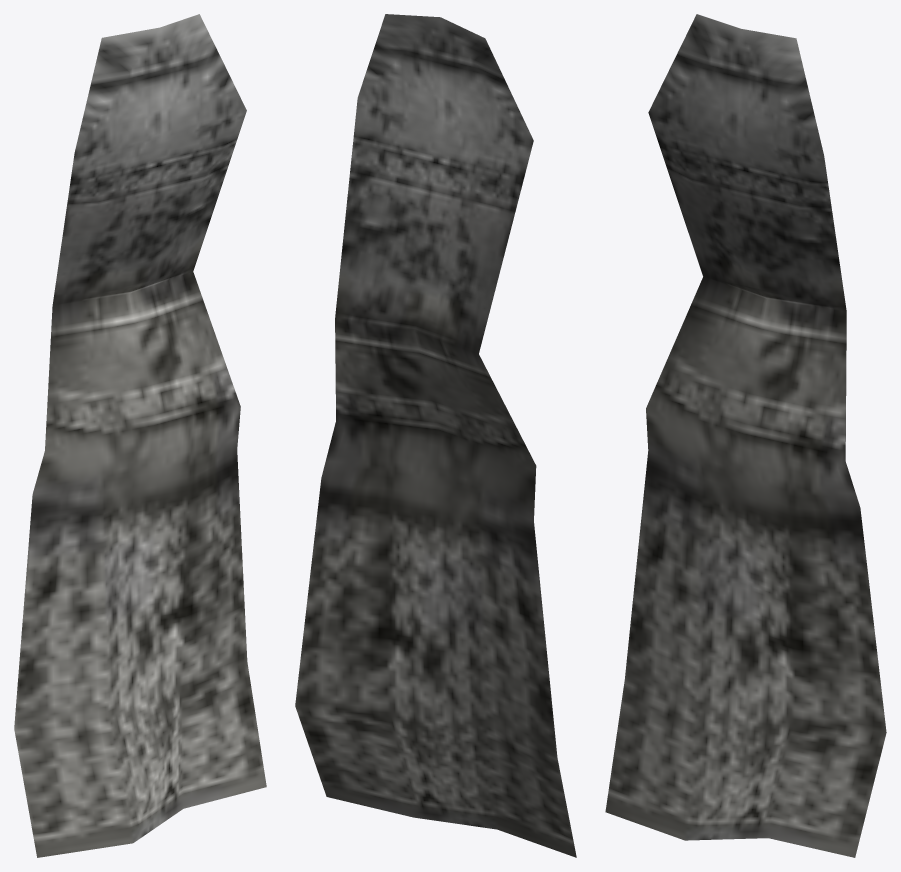
3 renders of one model, left to right at view 1: azimuth 30°, elevation 25°; view 2: azimuth 150°, elevation 25°; view 3: azimuth 330°, elevation 25°, orthographic. The views are drawn at different scales.
Visible parts, largest first — view 1: np1601; view 2: np1601; view 3: np1601.
Part boxes in pixels (box(x1,y1,x2,y2)): np1601: box(14, 14, 266, 857); np1601: box(295, 14, 576, 857); np1601: box(605, 14, 886, 857).
Bounding box in the file's own units: 56.62 × 176 × 19.73.
